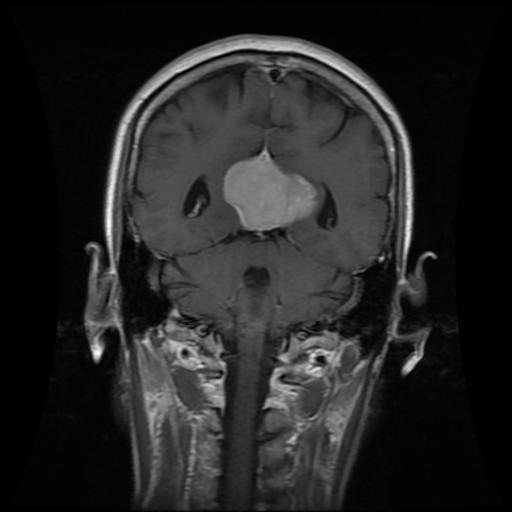Menigiomia_tumour: (223, 153, 314, 232)
